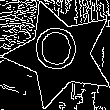O_S: (37, 28, 84, 81)
